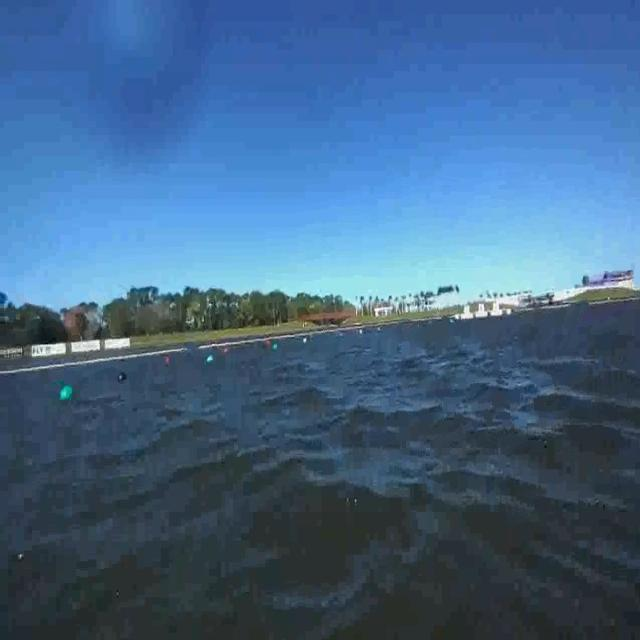green-buoy: (60, 382, 74, 399)
